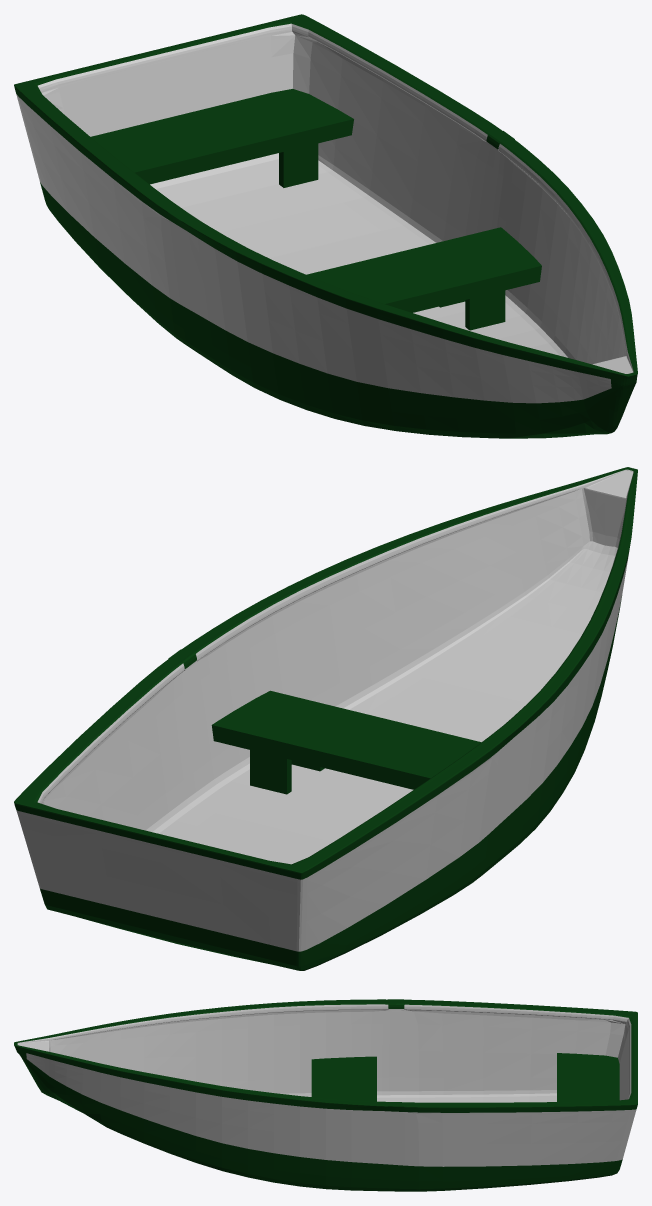
The model's file is rowboat.obj.
3 renders of one model, top to bottom at view 1: azimuth 30°, elevation 25°; view 2: azimuth 150°, elevation 25°; view 3: azimuth 270°, elevation 25°, orthographic. The views are drawn at different scales.
Parts seen in each view (by area): view 1: Rowboat_Hull_Cube.006, Rowboat_Stern_Seat_Cube.004, Rowboat_Center_Seat_Cube.005; view 2: Rowboat_Hull_Cube.006, Rowboat_Center_Seat_Cube.005; view 3: Rowboat_Hull_Cube.006, Rowboat_Stern_Seat_Cube.004, Rowboat_Center_Seat_Cube.005.
Part boxes in pixels (x1,y1,x2,y2): Rowboat_Hull_Cube.006: [14, 14, 637, 438]; Rowboat_Stern_Seat_Cube.004: [91, 89, 353, 187]; Rowboat_Center_Seat_Cube.005: [306, 227, 541, 330]; Rowboat_Hull_Cube.006: [14, 467, 637, 970]; Rowboat_Center_Seat_Cube.005: [211, 690, 481, 794]; Rowboat_Hull_Cube.006: [14, 999, 637, 1191]; Rowboat_Stern_Seat_Cube.004: [557, 1053, 619, 1101]; Rowboat_Center_Seat_Cube.005: [311, 1056, 376, 1101].
Bounding box in the file's own units: 126 × 58.51 × 309.
